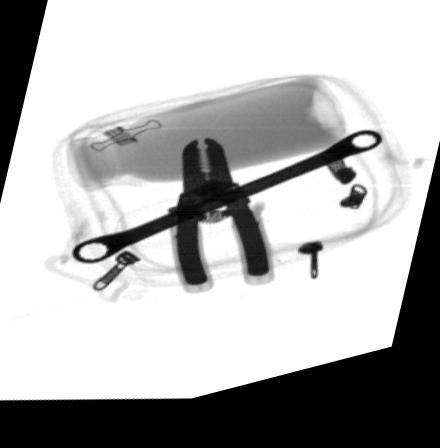Pliers: (173, 145, 269, 294)
Wrench: (69, 149, 383, 267)
